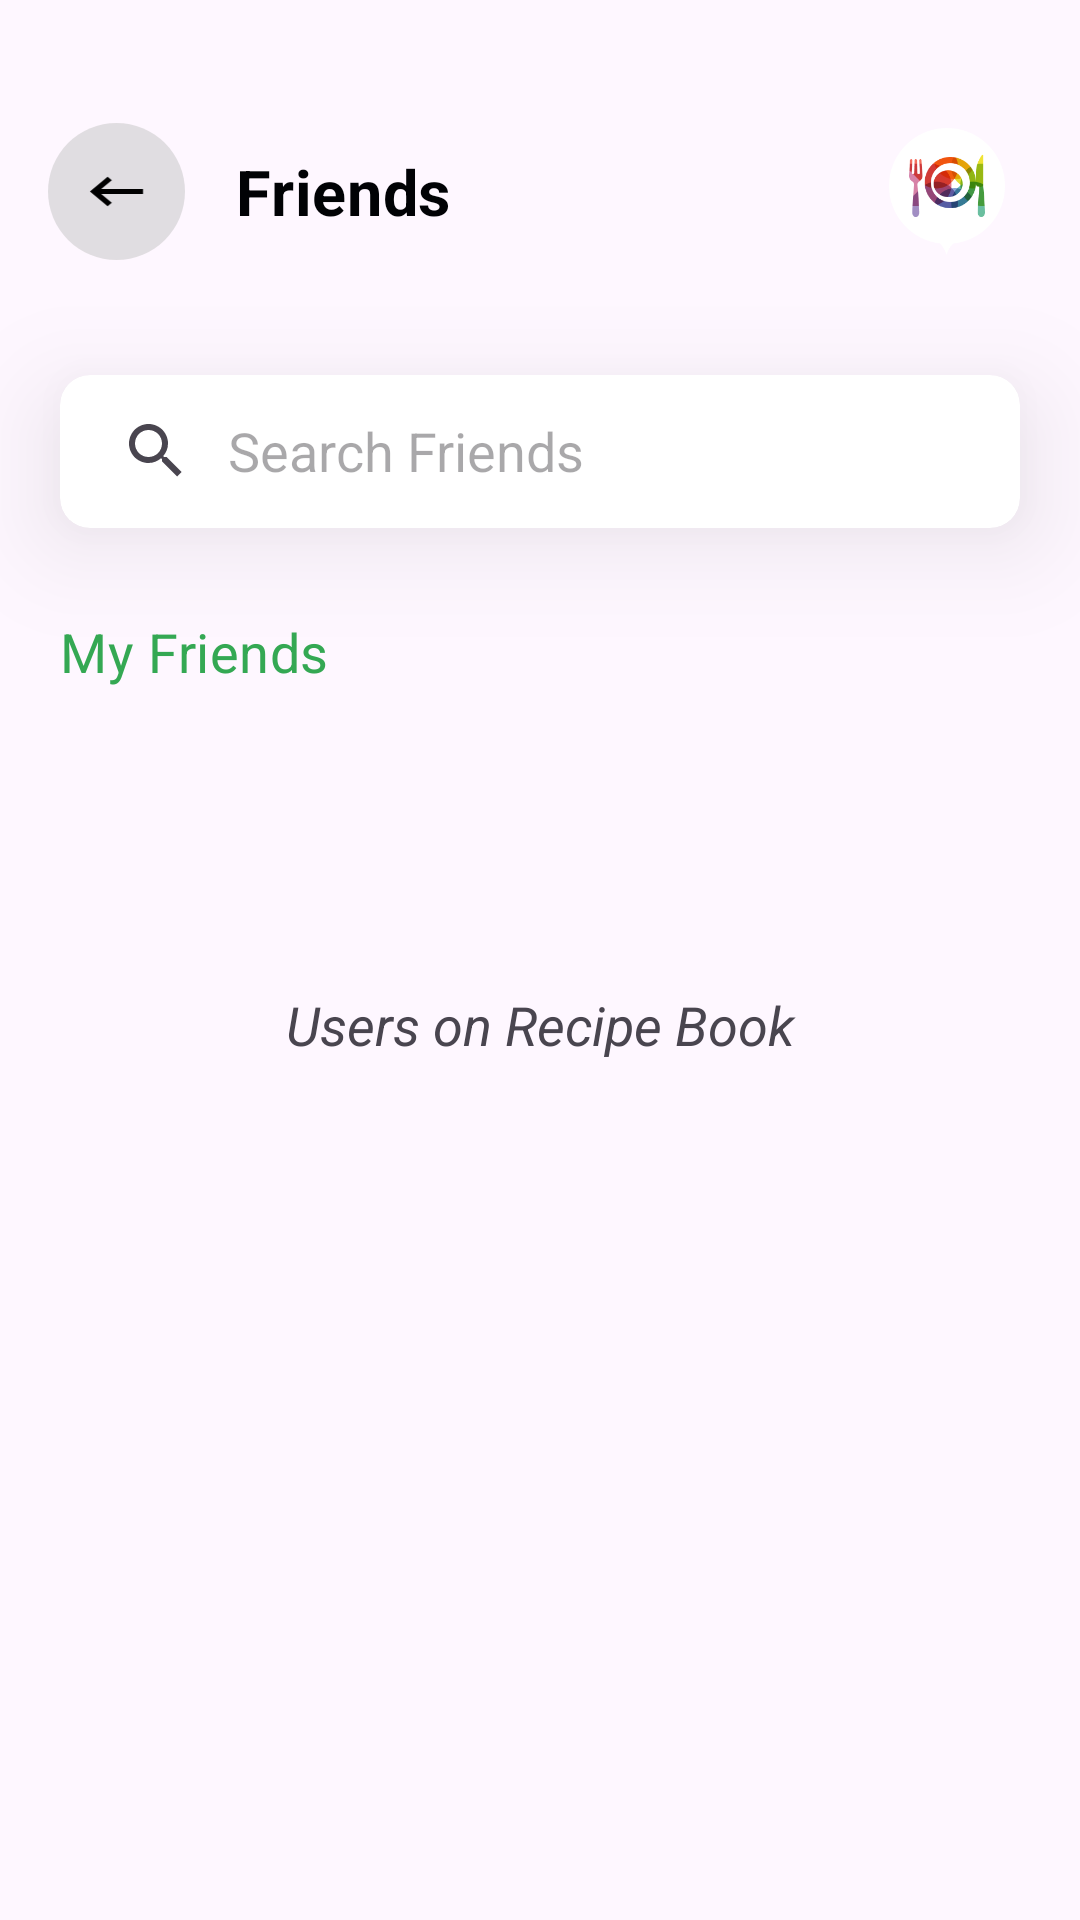

Screen size 1080w x 1920h. Icon name, then its center in pixels as [x,y]:
back: [116,191]
